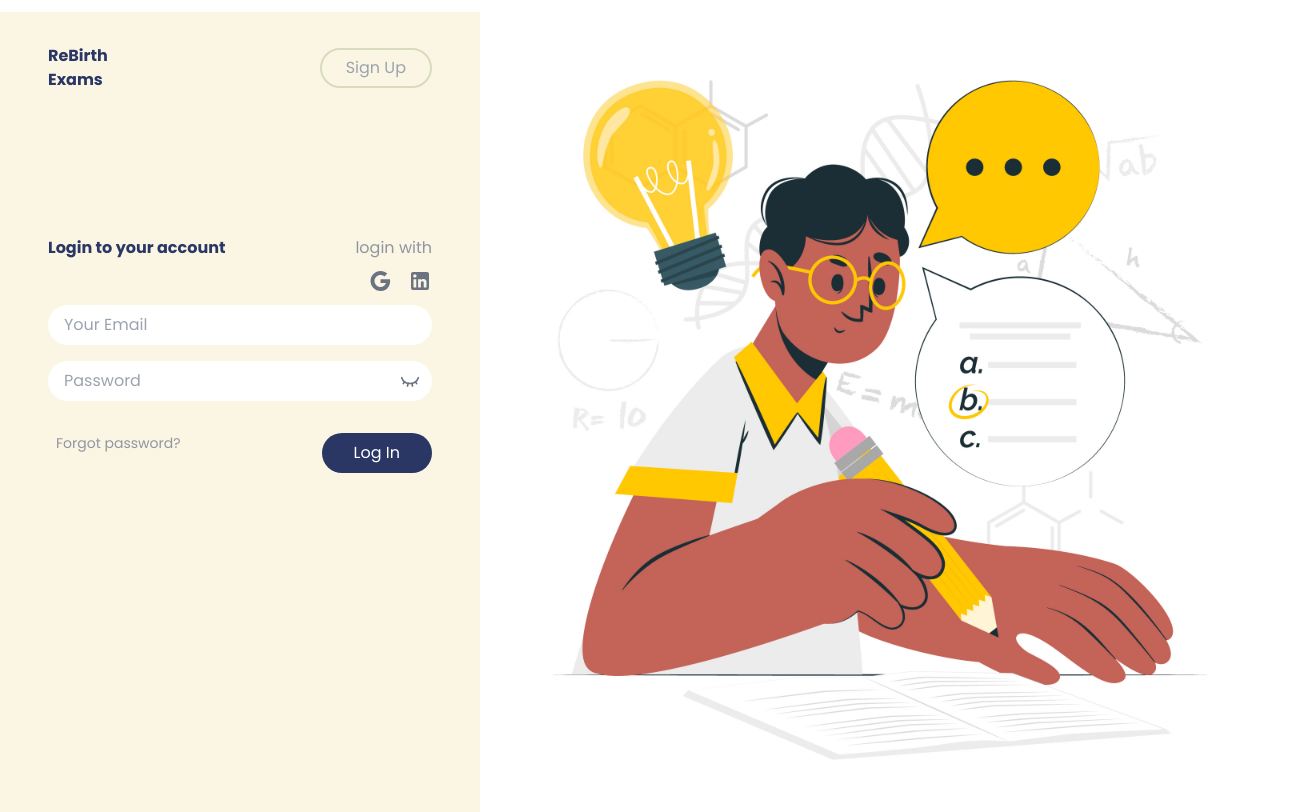
Test: Login › shows error for invalid login
Type "wrong@example.com" into the field with placeholder "Your Email" at (240, 325), box left=48, top=305, right=432, bottom=345
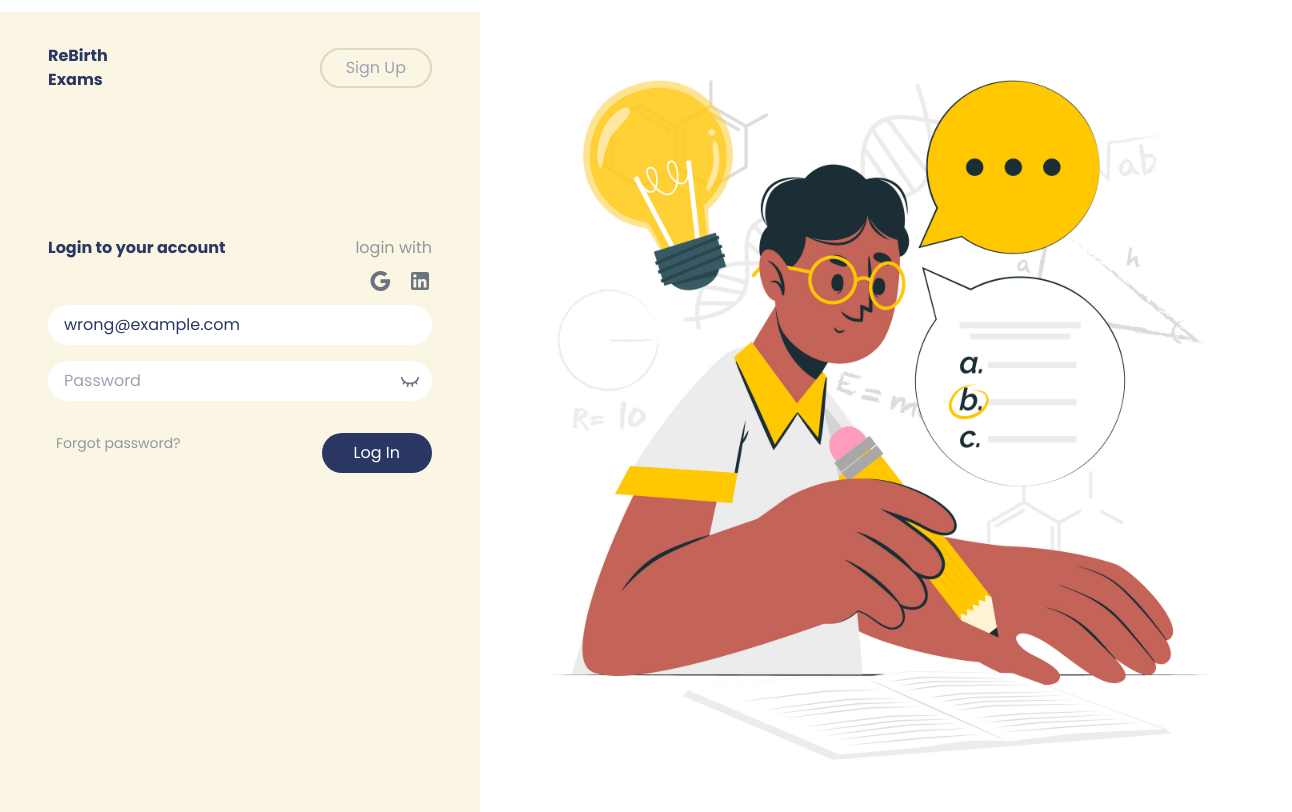
Type "wrongpassword" into the password field with placeholder "Password" at (240, 381), box left=48, top=361, right=432, bottom=401
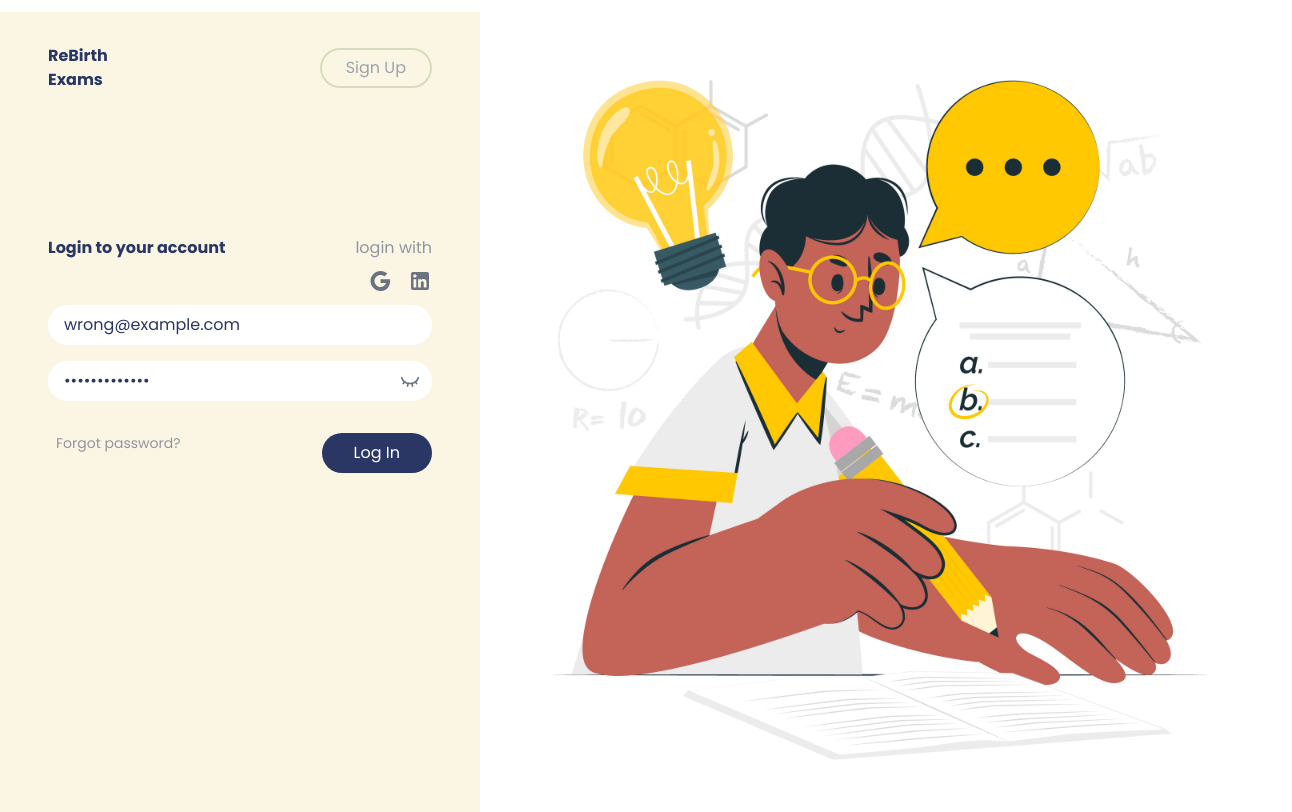
Click the button "Log In" at (377, 453), box left=322, top=433, right=432, bottom=473
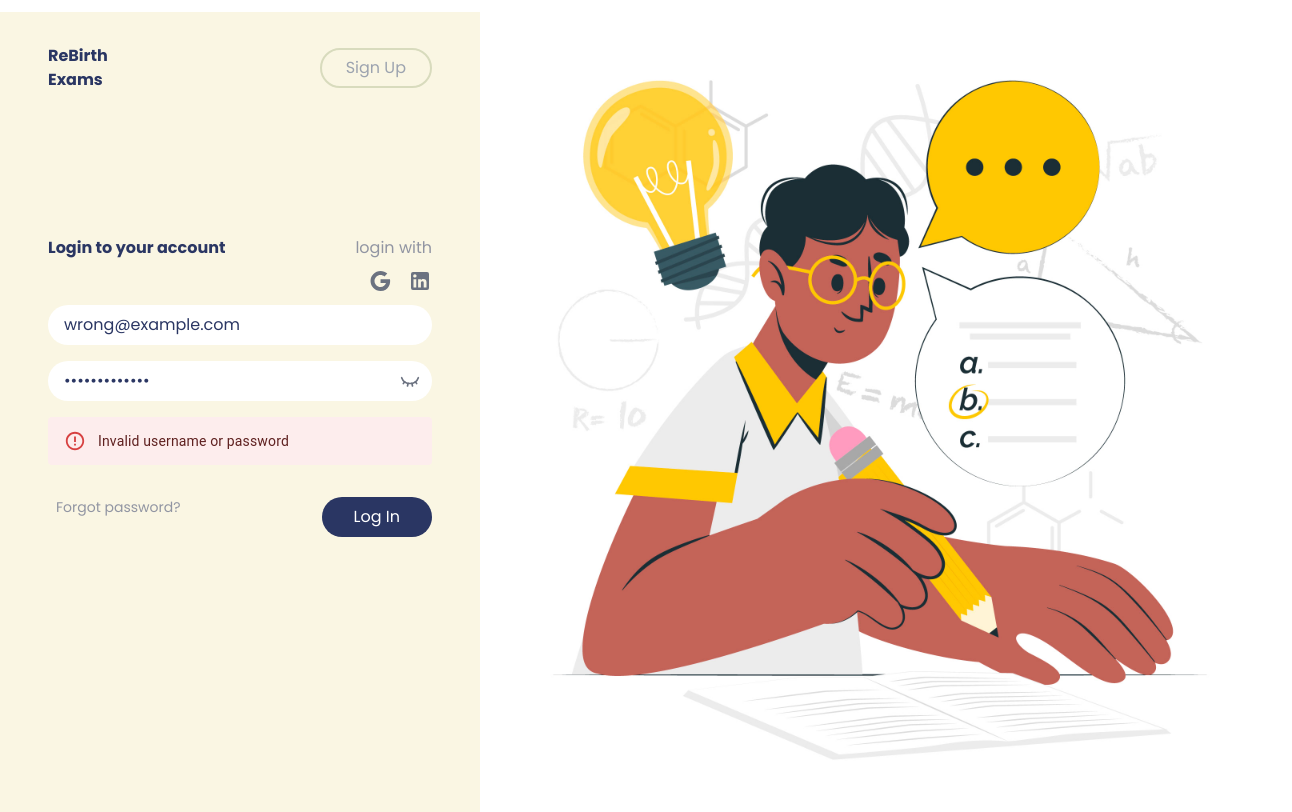
Now the text "Invalid username or password" is shown, box left=98, top=433, right=289, bottom=449
